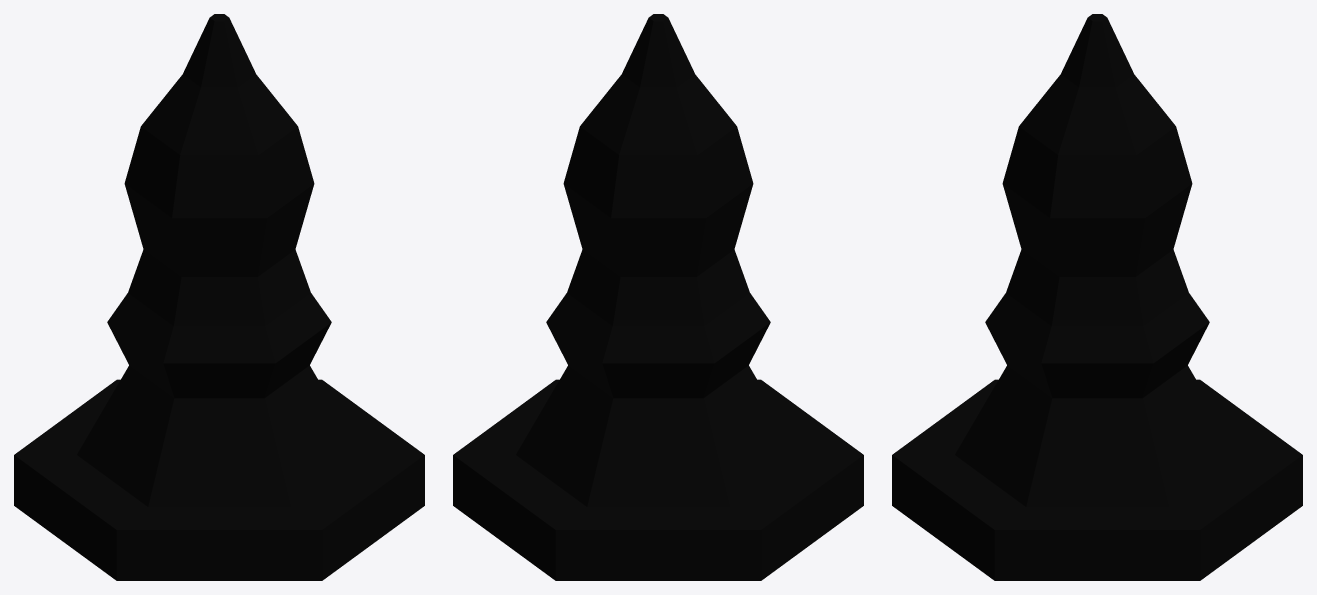
Rendered from chesspiecebishop02.obj.
The picture shows the model from 3 angles, left to right: view 1: azimuth 30°, elevation 25°; view 2: azimuth 150°, elevation 25°; view 3: azimuth 270°, elevation 25°; orthographic projection.
Parts seen in each view (by area): view 1: Cylinder.003_Cylinder.007; view 2: Cylinder.003_Cylinder.007; view 3: Cylinder.003_Cylinder.007.
Part boxes in pixels (x1,y1,x2,y2): Cylinder.003_Cylinder.007: [14, 14, 424, 580]; Cylinder.003_Cylinder.007: [453, 14, 863, 580]; Cylinder.003_Cylinder.007: [892, 14, 1302, 580].
Size of the model in its own units: 0.0225 by 0.0341 by 0.026.
